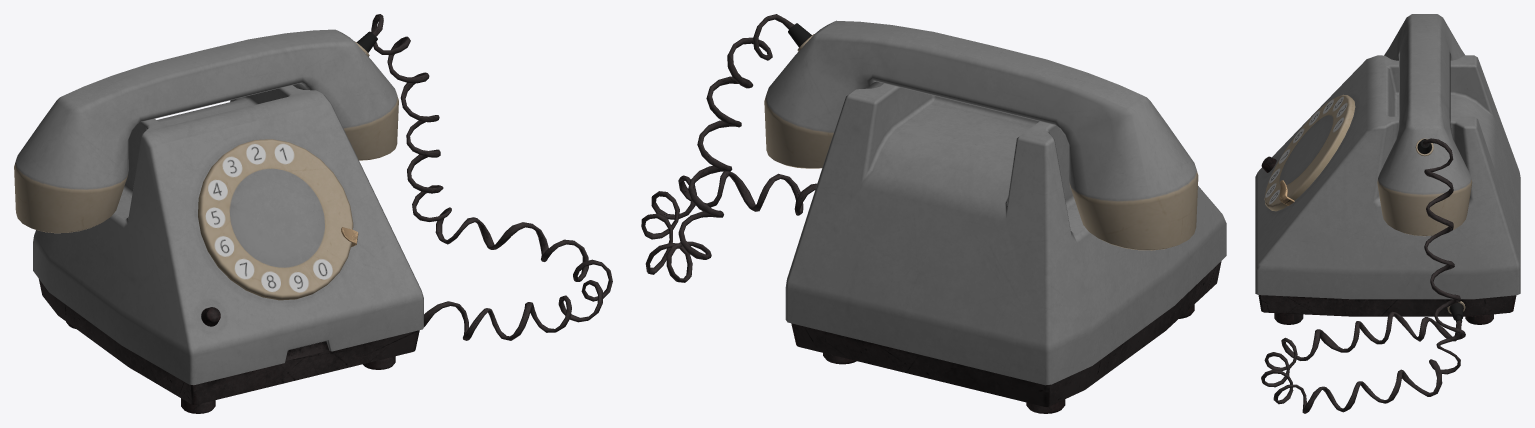
File: old phones.glb
3 renders of one model, left to right at view 1: azimuth 30°, elevation 25°; view 2: azimuth 150°, elevation 25°; view 3: azimuth 270°, elevation 25°, orthographic. The views are drawn at different scales.
Parts seen in each view (by area): view 1: SM_OldPhone_Full; view 2: SM_OldPhone_Full; view 3: SM_OldPhone_Full.
Boxes of the visible parts, x1,y1,x2,y2 form: SM_OldPhone_Full: [14, 14, 612, 413]; SM_OldPhone_Full: [641, 14, 1226, 413]; SM_OldPhone_Full: [1255, 14, 1520, 413].
Bounding box in the file's own units: 51.44 × 25.77 × 27.28.
1 material, 1 textured.
